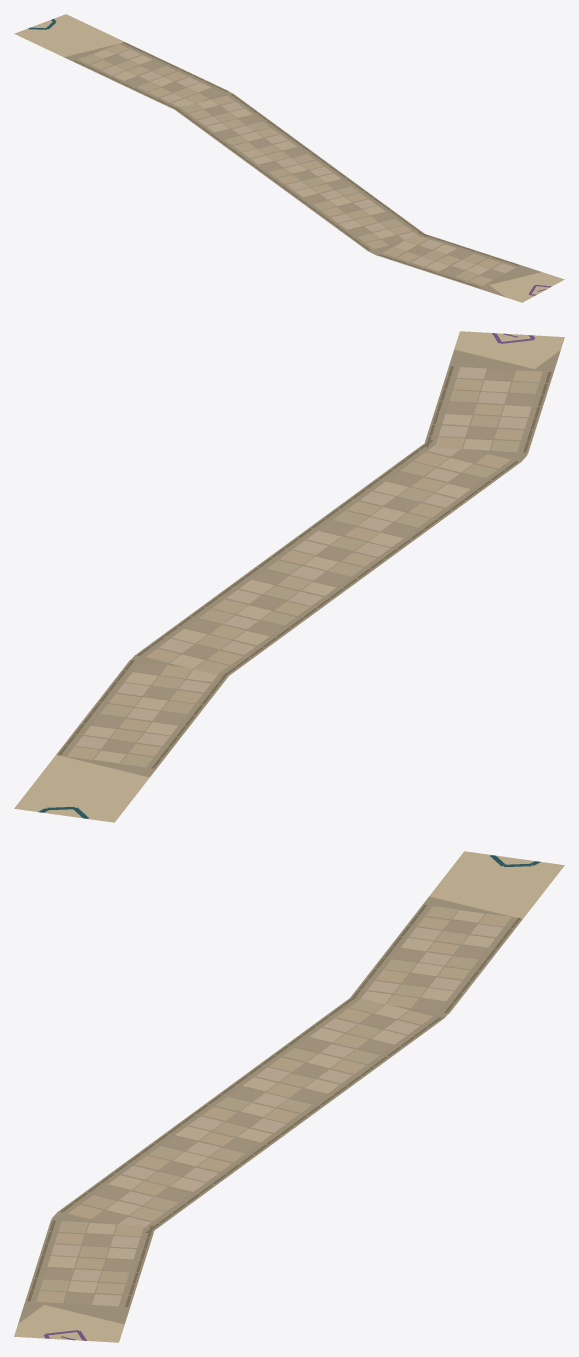
The model's file is route-def-temple_n-walk.glb.
The picture shows the model from 3 angles, top to bottom: view 1: azimuth 30°, elevation 25°; view 2: azimuth 150°, elevation 25°; view 3: azimuth 330°, elevation 25°; orthographic projection. The views are drawn at different scales.
Visible parts, largest first — view 1: Surveyed floor · route-def-temple_n-walk, Water Gate to North Temple / #C2AE8D, Water Gate to North Temple / #C9B798, Water Gate to North Temple / #BDAD8E, Water Gate to North Temple / #AE9D84, Water Gate to North Temple / #C7B399, Water Gate to North Temple / #85775D; view 2: Surveyed floor · route-def-temple_n-walk, Water Gate to North Temple / #C2AE8D, Water Gate to North Temple / #C9B798, Water Gate to North Temple / #BDAD8E, Water Gate to North Temple / #AE9D84, Water Gate to North Temple / #C7B399, Water Gate to North Temple / #85775D; view 3: Surveyed floor · route-def-temple_n-walk, Water Gate to North Temple / #C2AE8D, Water Gate to North Temple / #C9B798, Water Gate to North Temple / #BDAD8E, Water Gate to North Temple / #AE9D84, Water Gate to North Temple / #C7B399, Water Gate to North Temple / #85775D.
Boxes of the visible parts, x1,y1,x2,y2 form: Surveyed floor · route-def-temple_n-walk: (14, 14, 564, 302); Water Gate to North Temple / #C2AE8D: (91, 44, 500, 285); Water Gate to North Temple / #C9B798: (93, 49, 489, 274); Water Gate to North Temple / #BDAD8E: (78, 54, 486, 280); Water Gate to North Temple / #AE9D84: (104, 54, 503, 279); Water Gate to North Temple / #C7B399: (102, 49, 515, 273); Water Gate to North Temple / #85775D: (74, 42, 519, 287); Surveyed floor · route-def-temple_n-walk: (14, 331, 564, 822); Water Gate to North Temple / #C2AE8D: (67, 370, 542, 759); Water Gate to North Temple / #C9B798: (84, 380, 531, 763); Water Gate to North Temple / #BDAD8E: (100, 382, 538, 767); Water Gate to North Temple / #AE9D84: (92, 369, 534, 752); Water Gate to North Temple / #C7B399: (75, 367, 527, 749); Water Gate to North Temple / #85775D: (58, 366, 551, 768); Surveyed floor · route-def-temple_n-walk: (14, 851, 564, 1342); Water Gate to North Temple / #C2AE8D: (36, 913, 511, 1303); Water Gate to North Temple / #C9B798: (47, 910, 494, 1292); Water Gate to North Temple / #BDAD8E: (40, 906, 478, 1291); Water Gate to North Temple / #AE9D84: (44, 920, 486, 1304); Water Gate to North Temple / #C7B399: (51, 924, 503, 1306); Water Gate to North Temple / #85775D: (27, 904, 520, 1306).
Size of the model in its own units: 18.66 by 0.026 by 82.05.
